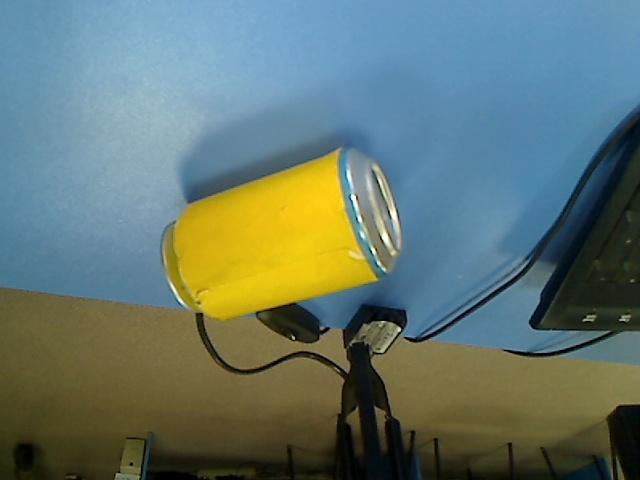can: (155, 144, 404, 324)
